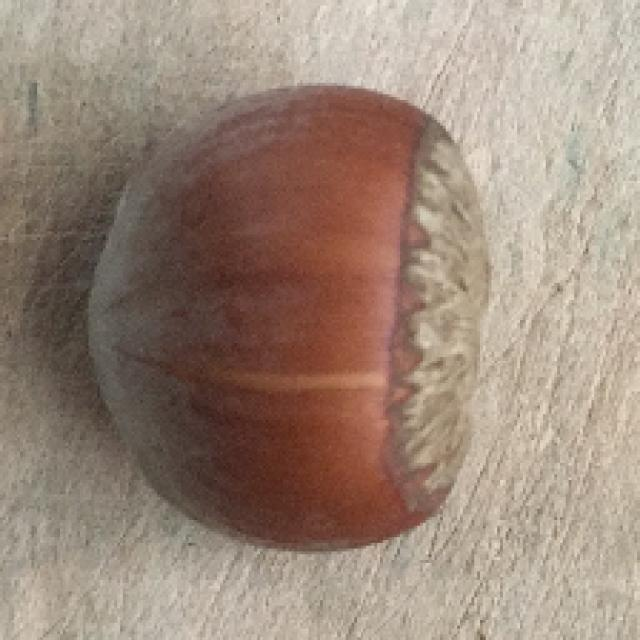qualityHazelnut: (77, 75, 488, 561)
